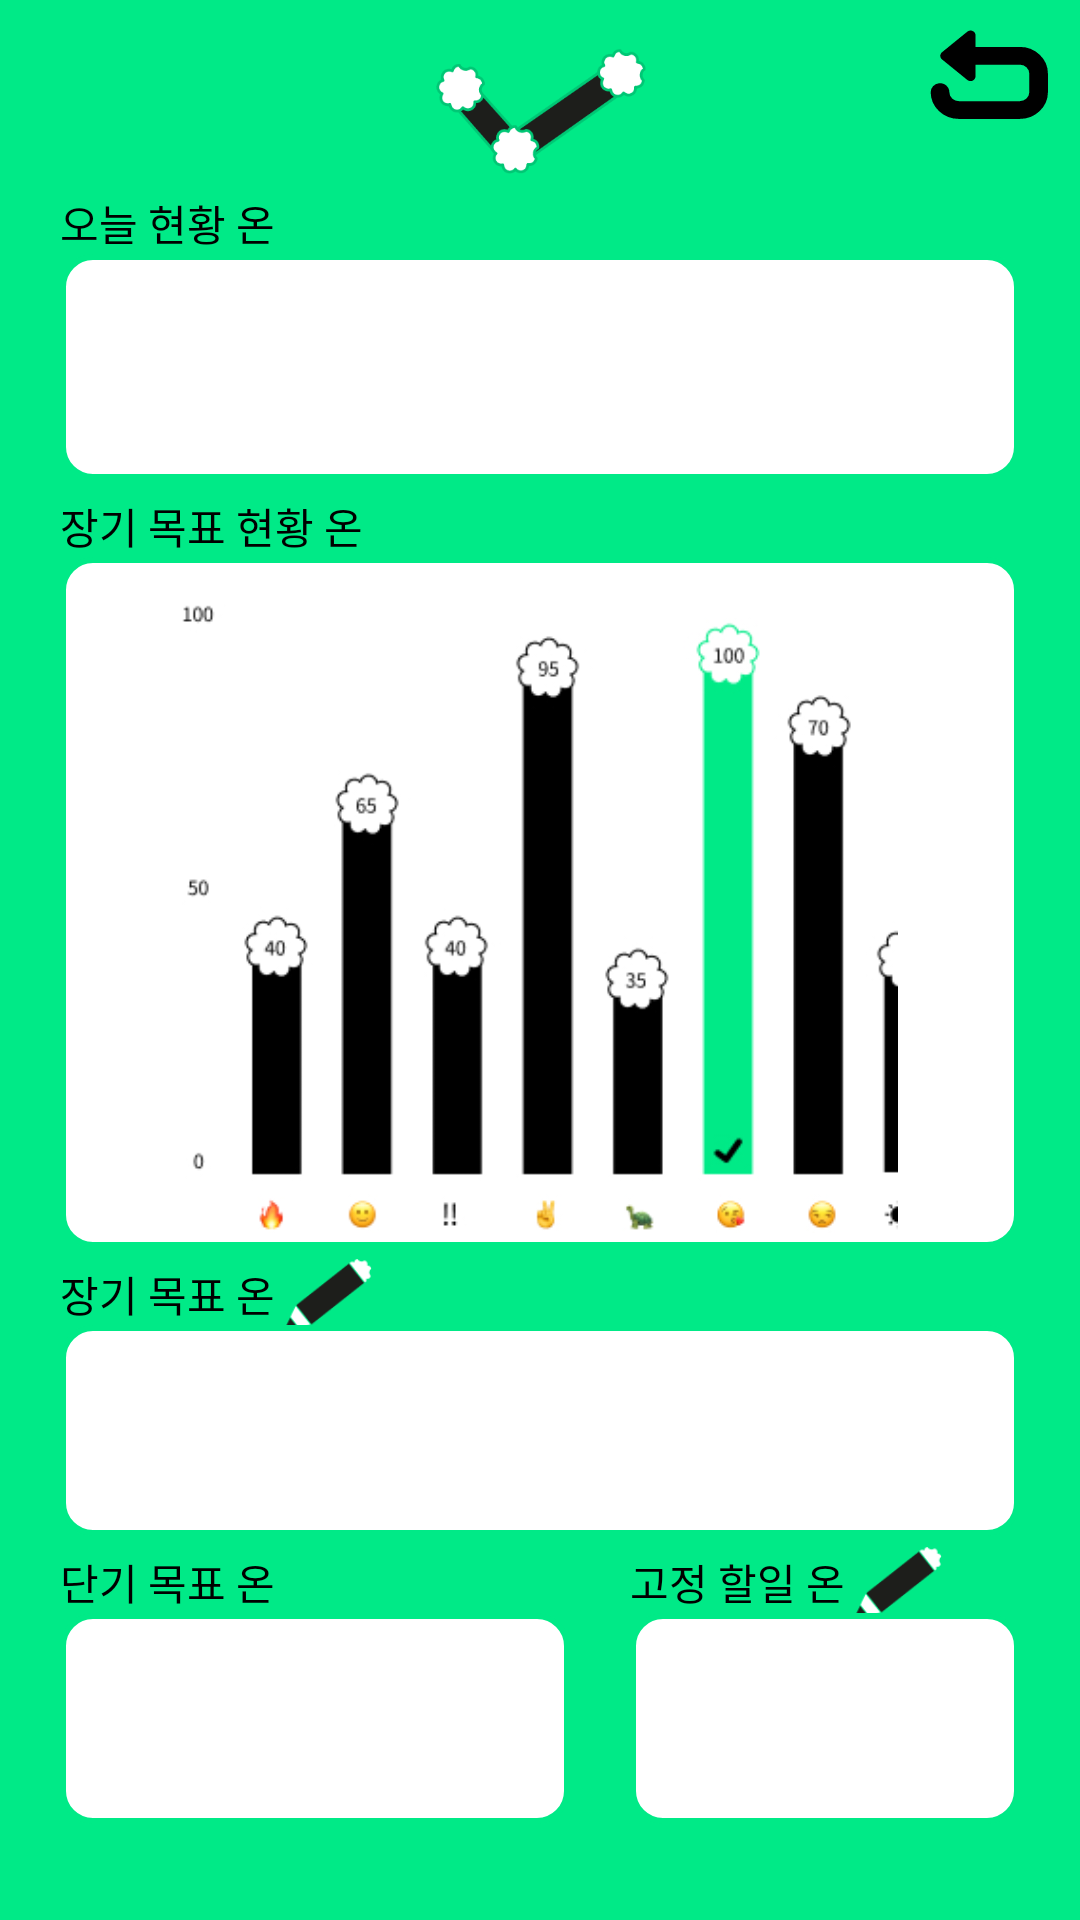

Point at icon controls on the screen. Image size 1080 x 1920, points as [x,y].
back: [989,74]
check: [541,111]
pencil: [328,1292], [898,1580]
